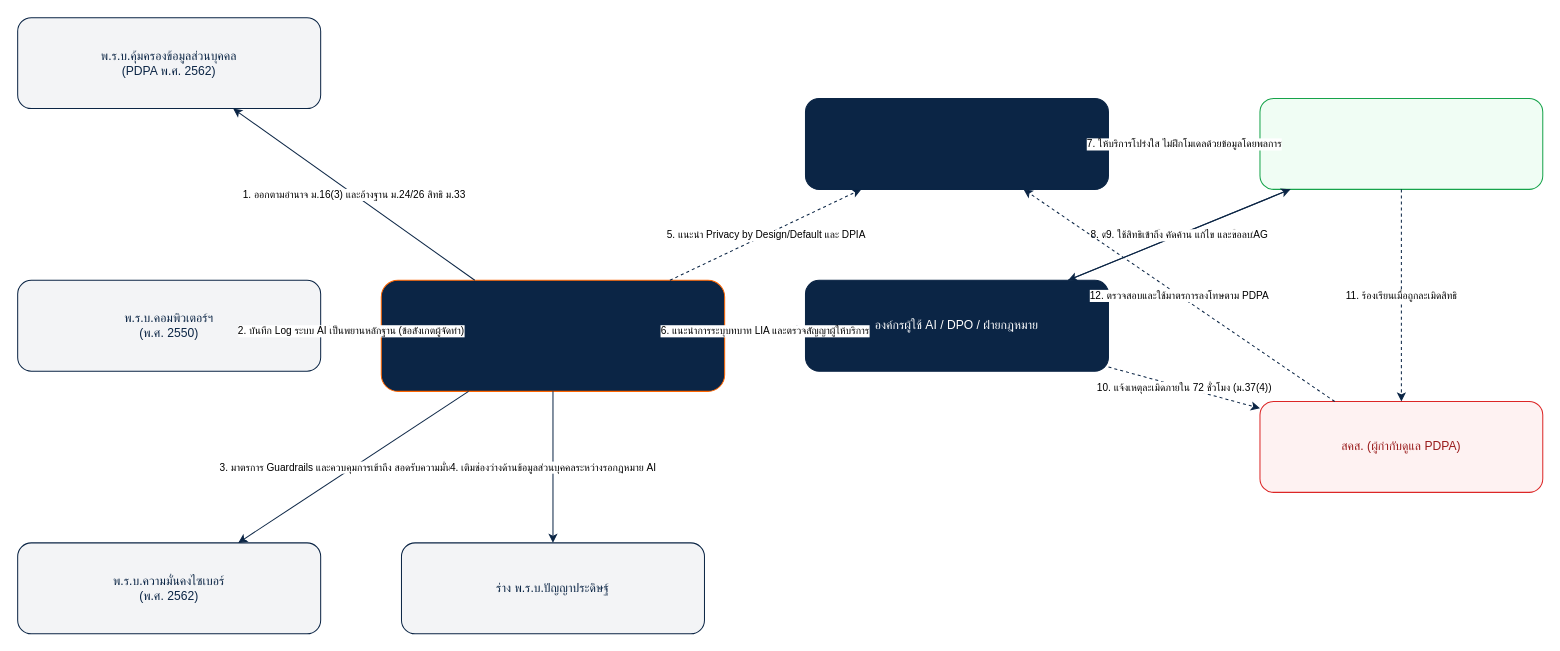
Image size: 1560x651. Some labels were removed from this diagram. The shapes that lost their labels are listed below. From the top down, each one's box as (x1, y1, x2, y2) in pixels, then its label:
(804, 97, 1108, 189): ผู้พัฒนา/ผู้ให้บริการ AI
(1259, 97, 1543, 189): เจ้าของข้อมูล / ผู้ใช้งาน
(380, 279, 725, 391): 📜 แนวทาง สคส. คุ้มครองข้อมูลส่วนบุคคลกับ AI v1.0 (ศูนย์กลาง)
